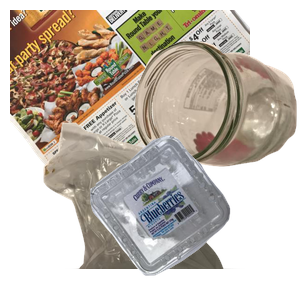glass: (132, 38, 300, 199)
paper: (10, 10, 250, 190)
plastic: (88, 133, 300, 300)
trash: (41, 120, 276, 300)
